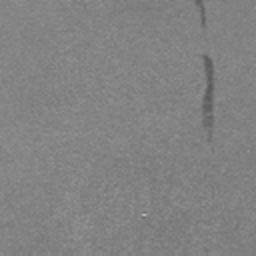Red iron sheet: (202, 54, 214, 128), (195, 0, 206, 28)
